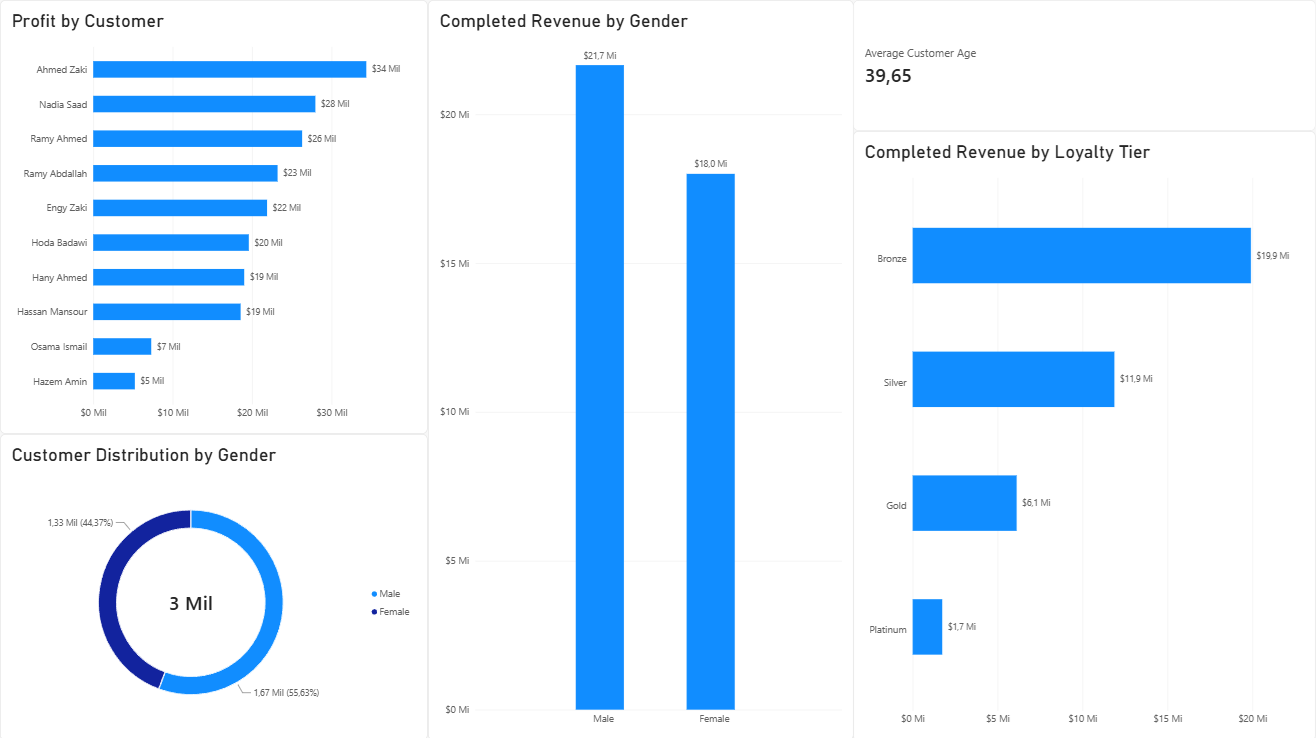

Layout of this report page (visuals, bound fields, positions):
{"tool":"powerbi","page":{"name":"Customer Analytics","canvas":[1920,1080],"ordinal":2},"visuals":[{"type":"barChart","title":"Profit by Customer","fields":{"Category":["dim_customers.full_name"],"Y":["fact_order_details.Lucro Pedidos Concluídos"]},"box":[0,0,624.4,633.5],"z":0},{"type":"barChart","title":"Completed Revenue by Loyalty Tier","fields":{"Category":["dim_customers.loyalty_tier"],"Y":["fact_order_details.Faturamento Concluído"]},"box":[1244.6,190.7,675.4,889.6],"z":1000},{"type":"columnChart","title":"Completed Revenue by Gender","fields":{"Category":["dim_customers.gender"],"Y":["fact_order_details.Faturamento Concluído"]},"box":[623.8,0,620.7,1080.4],"z":2000},{"type":"donutChart","title":"Customer Distribution by Gender","fields":{"Category":["dim_customers.gender"],"Y":["CountNonNull(dim_customers.customer_id)"]},"box":[0,633.2,623.8,447.2],"z":3000},{"type":"cardVisual","fields":{"Data":["Avg(dim_customers.age)"]},"box":[1244.6,0,675,191],"z":4000}]}

Visuals, with their boxes in screenshot pixels (x1, y1, x2, y2), scaled from the page's 1920x1080 canvas onto the 1316x738 screenshot:
"Profit by Customer" barChart: bbox=(0, 0, 428, 433)
"Completed Revenue by Loyalty Tier" barChart: bbox=(853, 130, 1315, 737)
"Completed Revenue by Gender" columnChart: bbox=(428, 0, 853, 737)
"Customer Distribution by Gender" donutChart: bbox=(0, 433, 428, 737)
cardVisual - Avg(dim_customers.age): bbox=(853, 0, 1315, 131)
